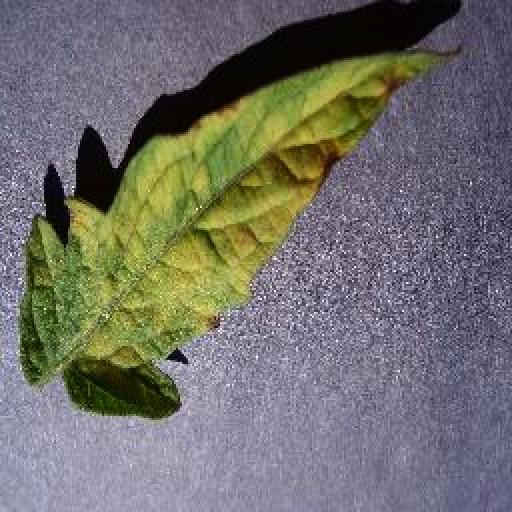disease_tomato: (20, 48, 454, 422)
